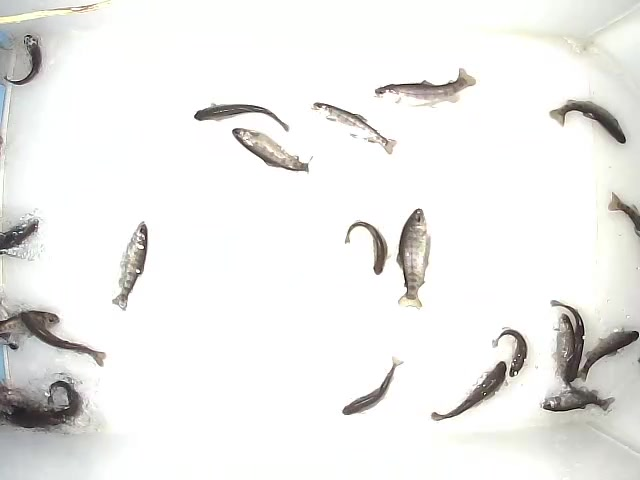fish: (16, 307, 108, 368), (429, 358, 510, 424), (308, 100, 398, 155), (340, 350, 407, 416), (230, 125, 315, 175), (372, 66, 476, 105), (108, 217, 151, 311), (394, 207, 433, 310), (550, 99, 627, 145), (191, 100, 295, 134), (548, 297, 585, 391), (576, 328, 639, 381), (341, 219, 391, 276), (2, 32, 45, 87), (538, 388, 618, 415), (489, 326, 530, 377), (552, 313, 574, 385)
